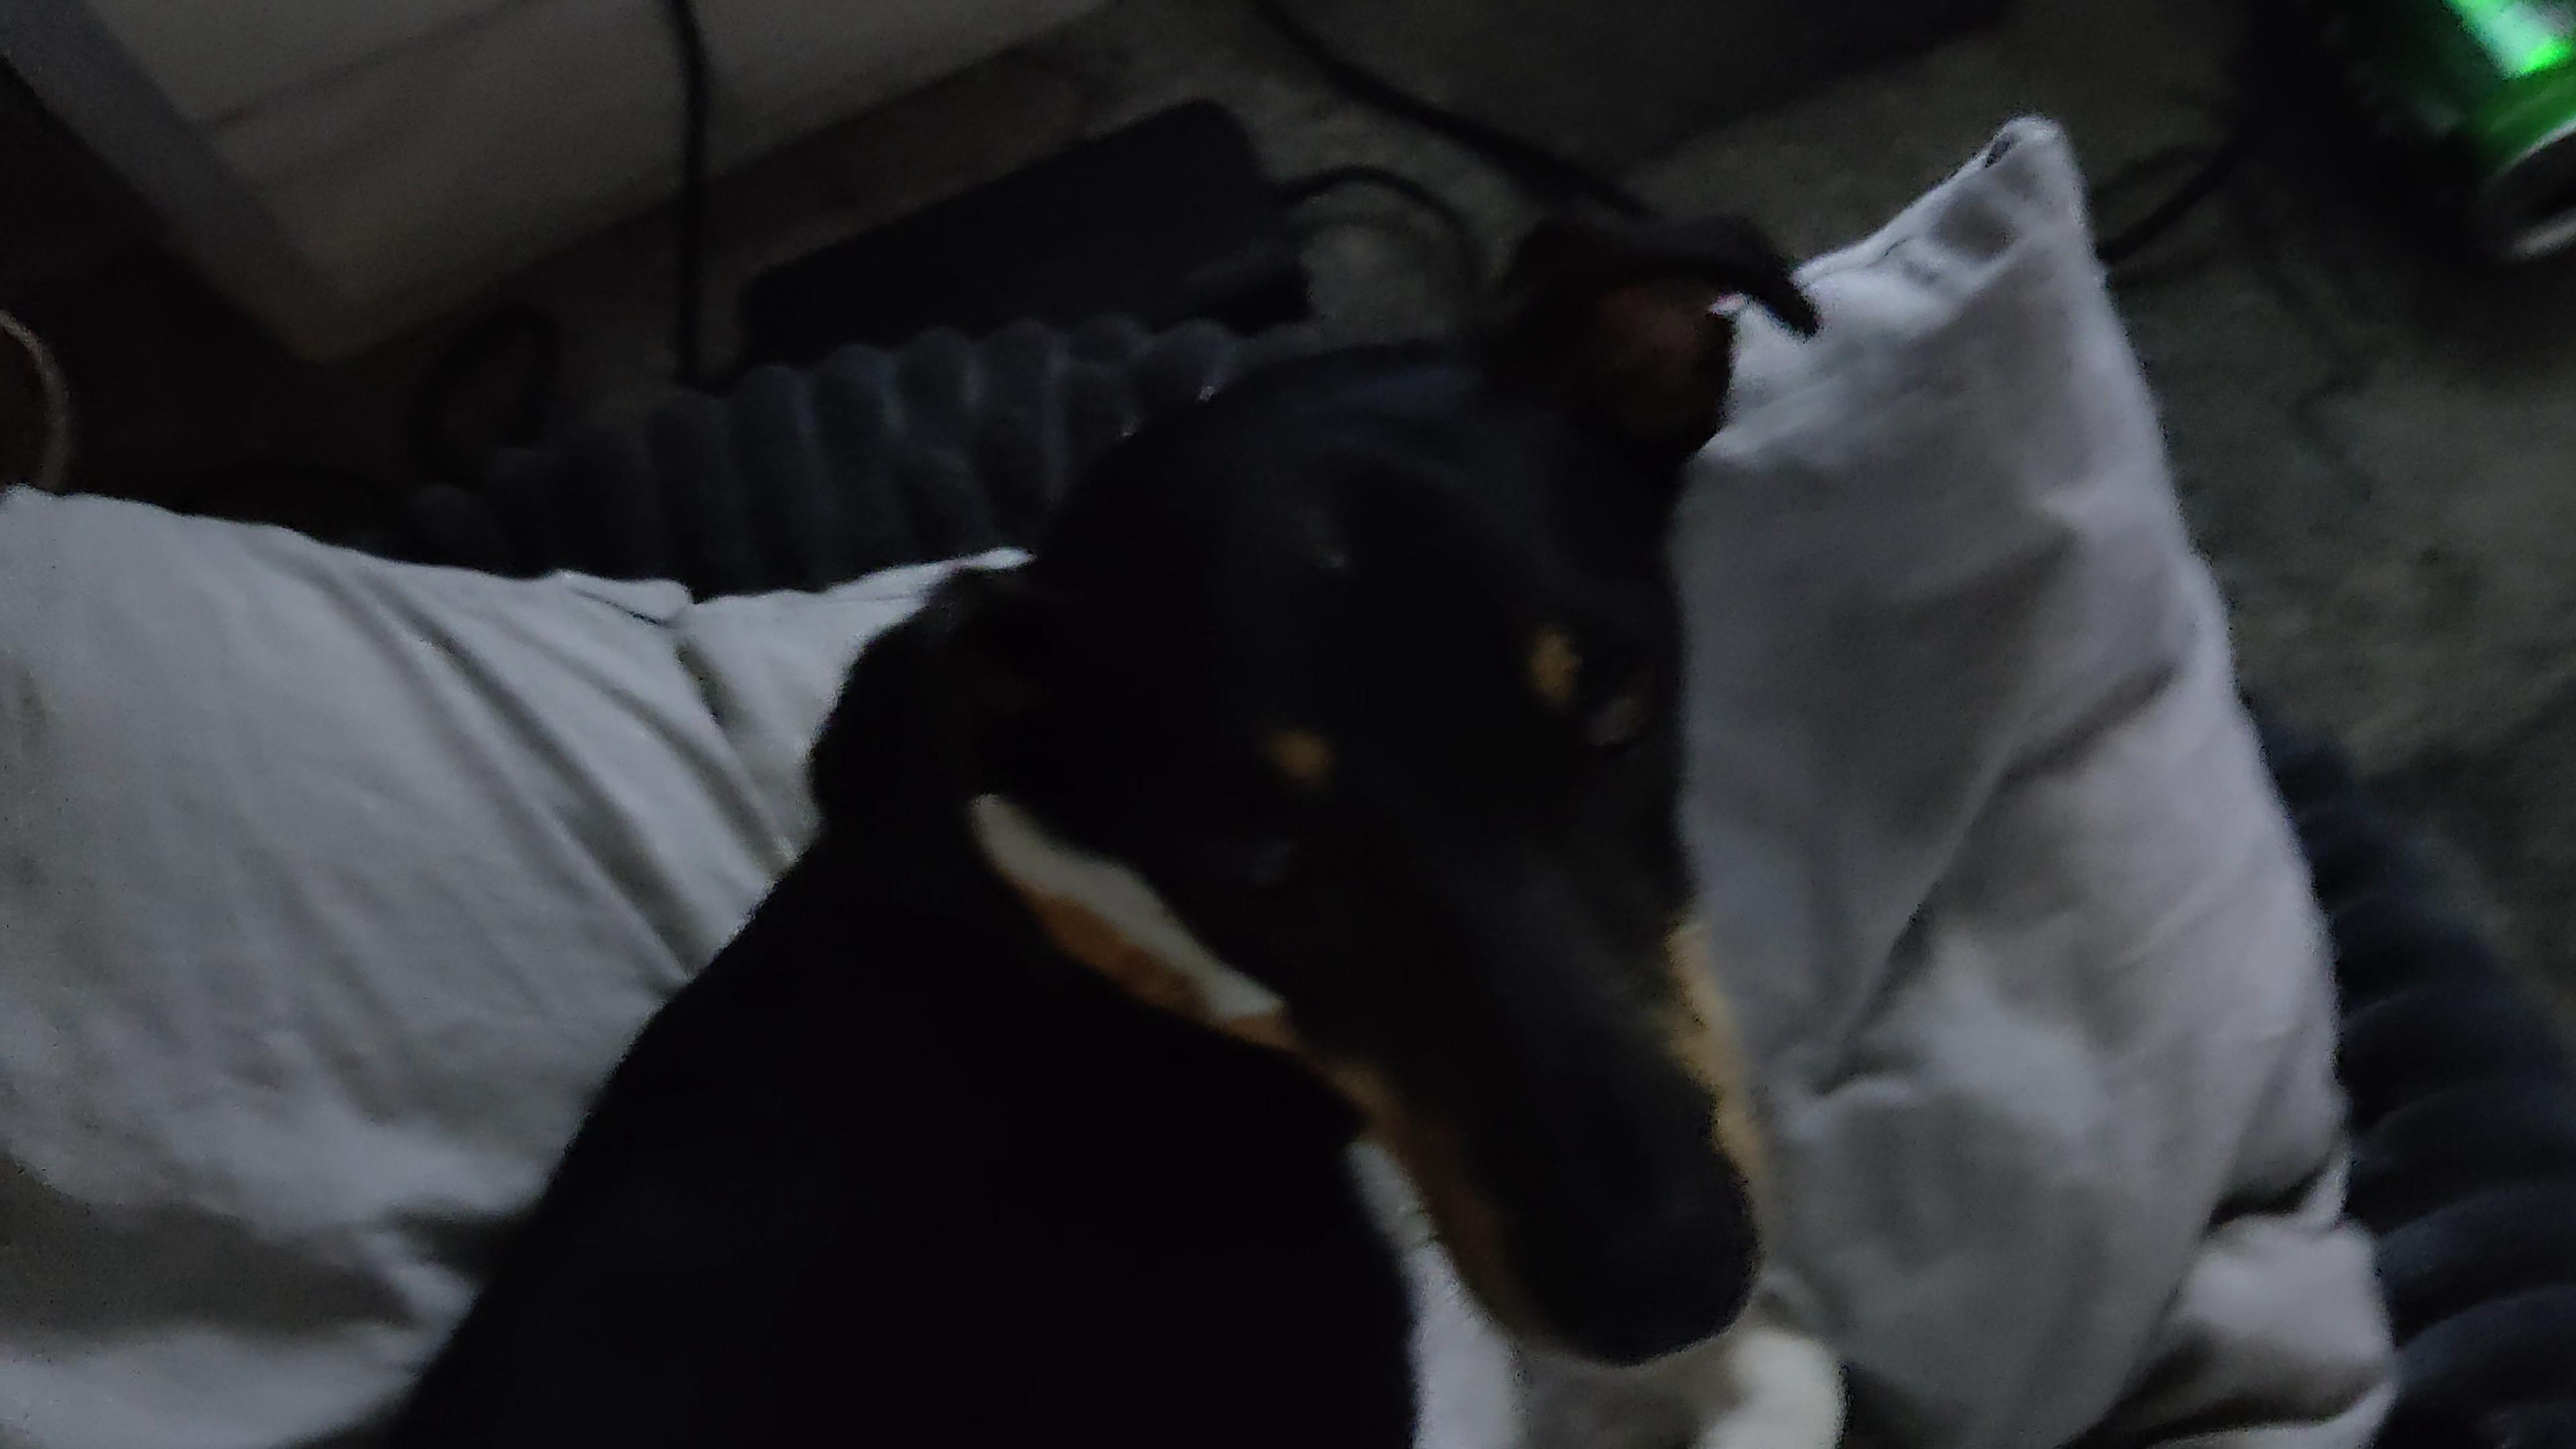Dog: (377, 166, 1888, 1449)
